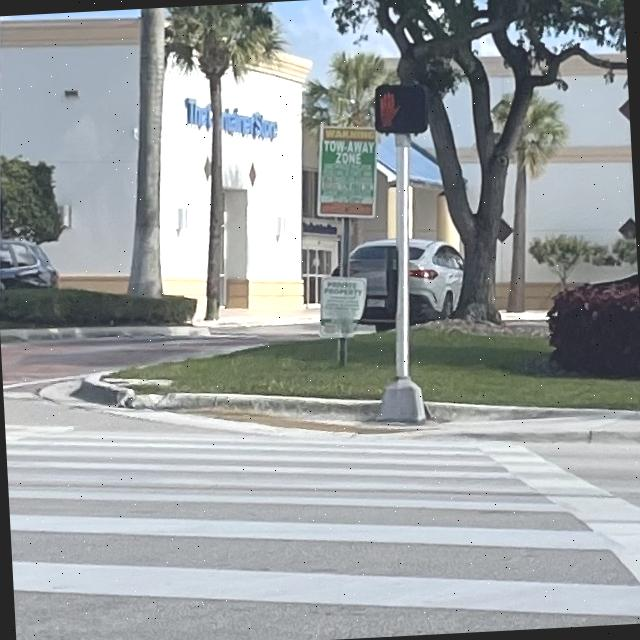curb: (72, 379, 380, 421), (424, 403, 640, 423), (433, 431, 640, 443)
